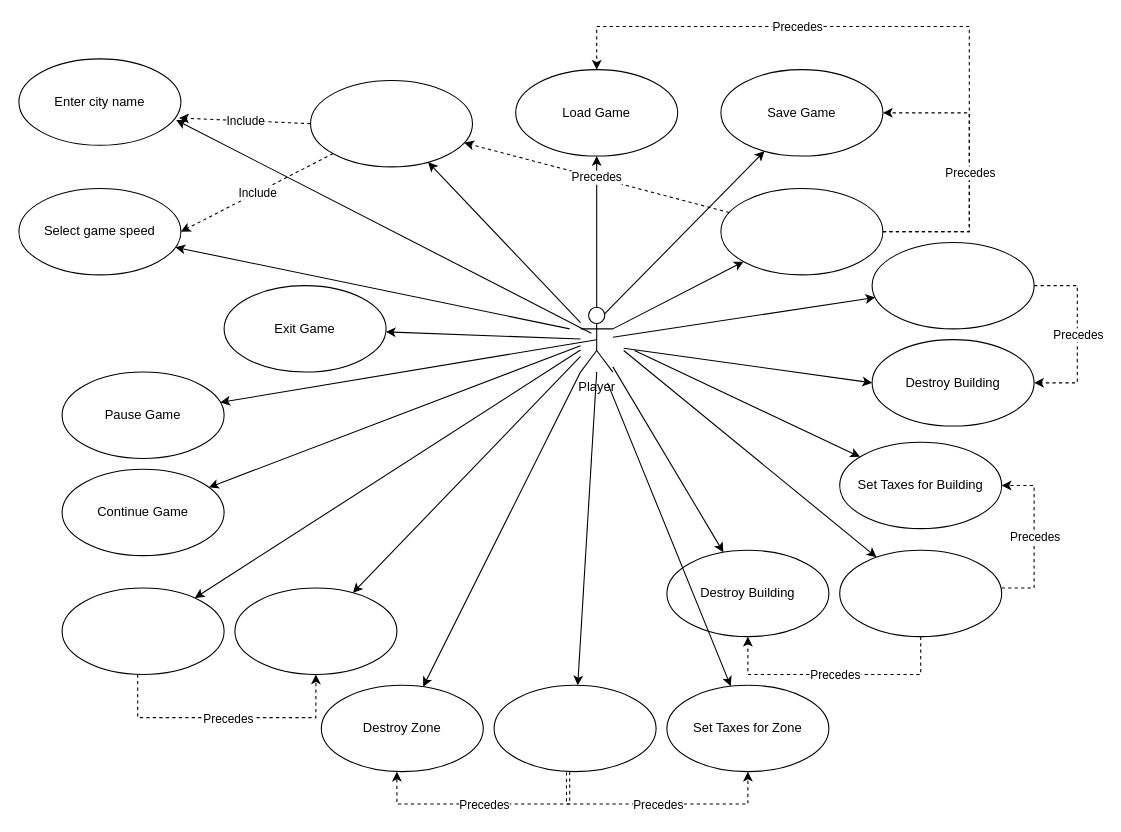
The diagram is 1121 pixels wide and 832 high, and some of its shapes have lost their labels. The shapes that lost their labels are listed below. From the top down, each one's centre as x and y in pixels, then its label:
the point at 391,123: Settings
the point at 801,231: Start Game
the point at 952,285: Create Roads
the point at 920,593: Create Building
the point at 142,630: Create Florest
the point at 315,630: Destroy Florest
the point at 574,728: Create Zone
